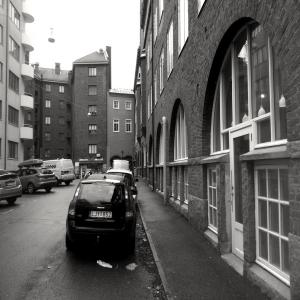Vehicle-registration-plate: (90, 212, 113, 220)
